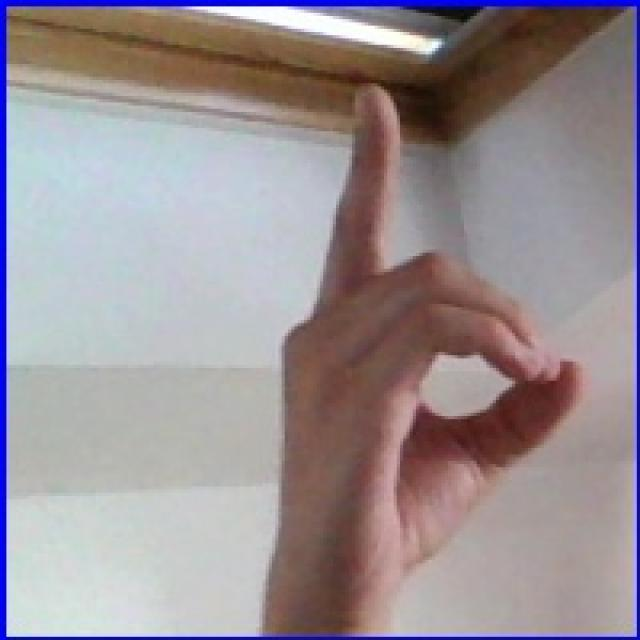Letra D: (218, 63, 598, 621)
